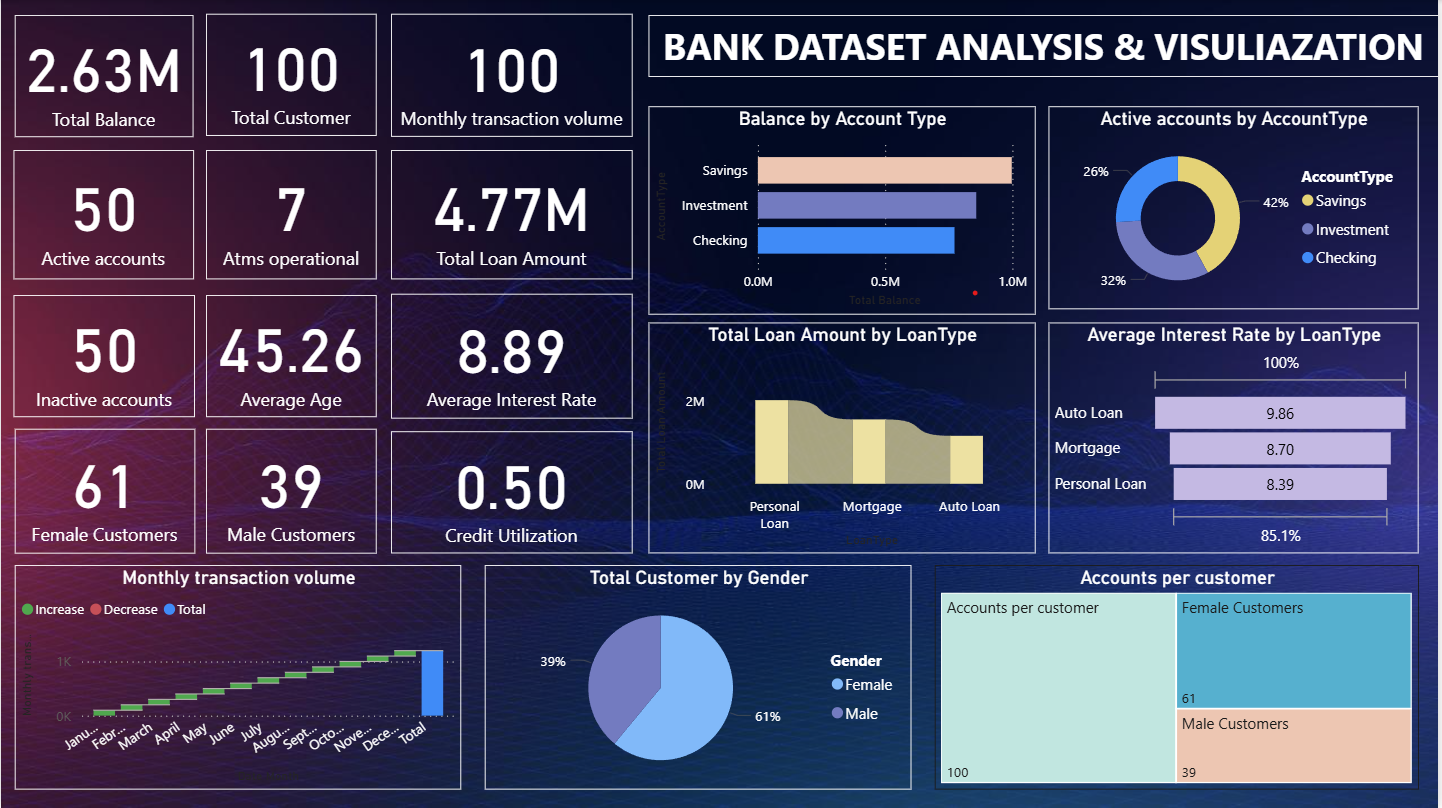

The dashboard page shown, as its layout file describes it:
{"tool":"powerbi","page":{"name":"Page 1","canvas":[1280,720],"ordinal":0},"visuals":[{"type":"textbox","box":[576.3,13.7,703.9,54.9],"z":0},{"type":"card","fields":{"Values":["accounts.Total Balance"]},"box":[12.3,13.7,159.2,108.4],"z":1000},{"type":"card","fields":{"Values":["accounts.Active accounts"]},"box":[11,133.4,160.5,115.3],"z":2000},{"type":"card","fields":{"Values":["accounts.Inactive accounts"]},"box":[11,262.4,161.9,108.4],"z":3000},{"type":"card","fields":{"Values":["customers.Female Customers"]},"box":[12.3,381.8,160.5,111.1],"z":4000},{"type":"card","fields":{"Values":["credit_cards.Credit Utilization"]},"box":[347.2,384.5,215.4,108.4],"z":5000},{"type":"card","fields":{"Values":["customers.Customer count"]},"box":[182.5,12.6,152.3,108.4],"z":6000},{"type":"card","fields":{"Values":["atms.Atms operational"]},"box":[182.5,133.4,152.3,115.3],"z":7000},{"type":"card","fields":{"Values":["customers.Average Age"]},"box":[182.5,262.4,152.3,108.4],"z":8000},{"type":"card","fields":{"Values":["customers.Male Customers"]},"box":[182.5,381.8,152.3,111.1],"z":9000},{"type":"card","fields":{"Values":["loans.Average Interest Rate"]},"box":[347.2,262.1,215.4,111.1],"z":10000},{"type":"card","fields":{"Values":["loans.Total Loan Amount"]},"box":[347.2,133.1,215.4,115.3],"z":11000},{"type":"card","fields":{"Values":["transactions.Monthly transaction volume"]},"box":[347.2,12.3,215.4,109.8],"z":12000},{"type":"barChart","title":"Balance by Account Type","fields":{"Y":["accounts.Total Balance"],"Category":["accounts.AccountType"]},"box":[576.3,94.7,344.4,185.2],"z":13000},{"type":"donutChart","fields":{"Category":["accounts.AccountType"],"Y":["accounts.Active accounts"]},"box":[933.1,94.7,329.3,181.1],"z":14000},{"type":"ribbonChart","fields":{"Category":["loans.LoanType"],"Y":["loans.Total Loan Amount"]},"box":[576.3,286.8,344.4,205.8],"z":15000},{"type":"funnel","fields":{"Y":["loans.Average Interest Rate"],"Category":["loans.LoanType"]},"box":[933.1,286.8,329.3,205.8],"z":16000},{"type":"waterfallChart","title":"Monthly transaction volume ","fields":{"Category":["Date.Date.Variation.Date Hierarchy.Month"],"Y":["transactions.Monthly transaction volume"]},"box":[12.3,503.6,397.9,200.3],"z":17000},{"type":"pieChart","fields":{"Category":["customers.Gender"],"Y":["customers.Total Customer"]},"box":[430.9,503.6,380.1,200.3],"z":18000},{"type":"treemap","title":" Accounts per customer","fields":{"Values":["customers.Female Customers","customers.Male Customers","accounts.Accounts per customer"]},"box":[831.6,503.6,430.9,200.3],"z":19000}]}

Visuals, with their boxes in screenshot pixels (x1, y1, x2, y2), scaled from the page's 1280x720 canvas onto the 1442x808 screenshot:
textbox: crop(649, 15, 1441, 77)
card - accounts.Total Balance: crop(14, 15, 193, 137)
card - accounts.Active accounts: crop(12, 150, 193, 279)
card - accounts.Inactive accounts: crop(12, 294, 195, 416)
card - customers.Female Customers: crop(14, 428, 195, 553)
card - credit_cards.Credit Utilization: crop(391, 431, 634, 553)
card - customers.Customer count: crop(206, 14, 377, 136)
card - atms.Atms operational: crop(206, 150, 377, 279)
card - customers.Average Age: crop(206, 294, 377, 416)
card - customers.Male Customers: crop(206, 428, 377, 553)
card - loans.Average Interest Rate: crop(391, 294, 634, 419)
card - loans.Total Loan Amount: crop(391, 149, 634, 279)
card - transactions.Monthly transaction volume: crop(391, 14, 634, 137)
"Balance by Account Type" barChart: crop(649, 106, 1037, 314)
donutChart - accounts.AccountType x accounts.Active accounts: crop(1051, 106, 1422, 310)
ribbonChart - loans.LoanType x loans.Total Loan Amount: crop(649, 322, 1037, 553)
funnel - loans.Average Interest Rate x loans.LoanType: crop(1051, 322, 1422, 553)
"Monthly transaction volume " waterfallChart: crop(14, 565, 462, 790)
pieChart - customers.Gender x customers.Total Customer: crop(485, 565, 914, 790)
" Accounts per customer" treemap: crop(937, 565, 1422, 790)
